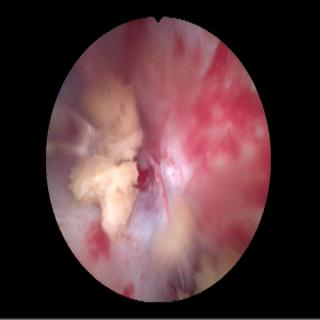stone: (69, 78, 143, 243), (155, 200, 195, 265), (193, 249, 239, 293)
tissue: (67, 22, 266, 294)
